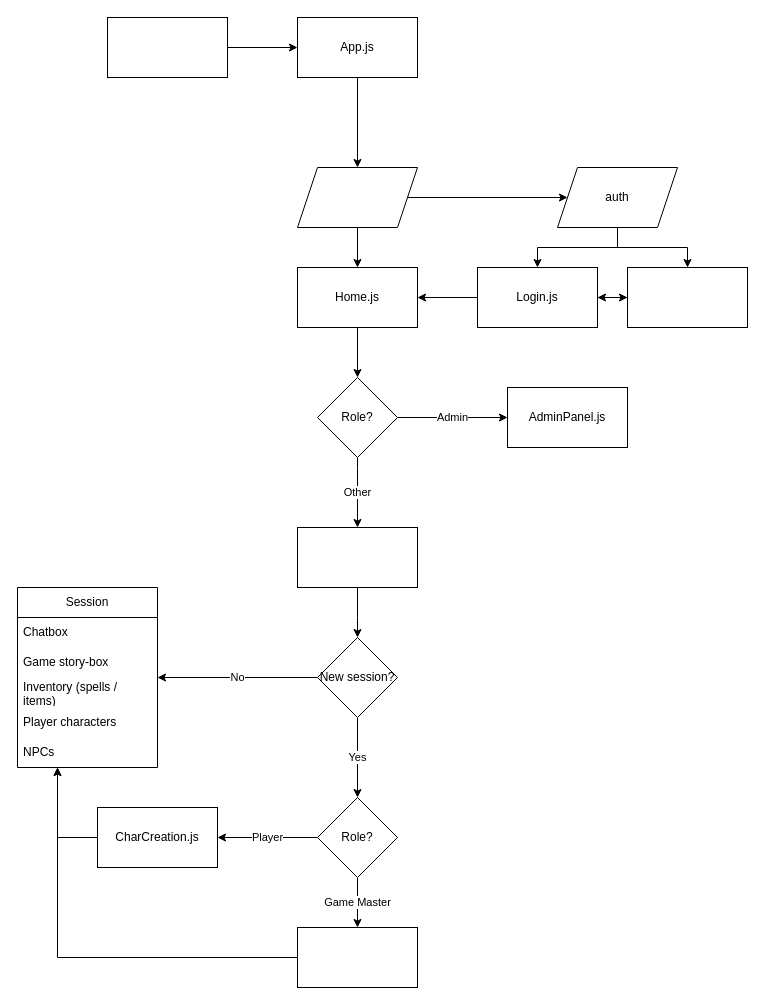
Image size: 765x1005. Some labels were removed from this diagram. The shapes that lost their labels are listed below. From the top down, each one's box as (x1, y1, x2, y2) in pixels, then its label:
(106, 16, 228, 78): index.js
(296, 166, 418, 228): pages
(626, 266, 748, 328): Register.js
(296, 526, 418, 588): SessionsBrowser.js
(296, 926, 418, 988): SessionSetup.js (Characters, items, spells)
